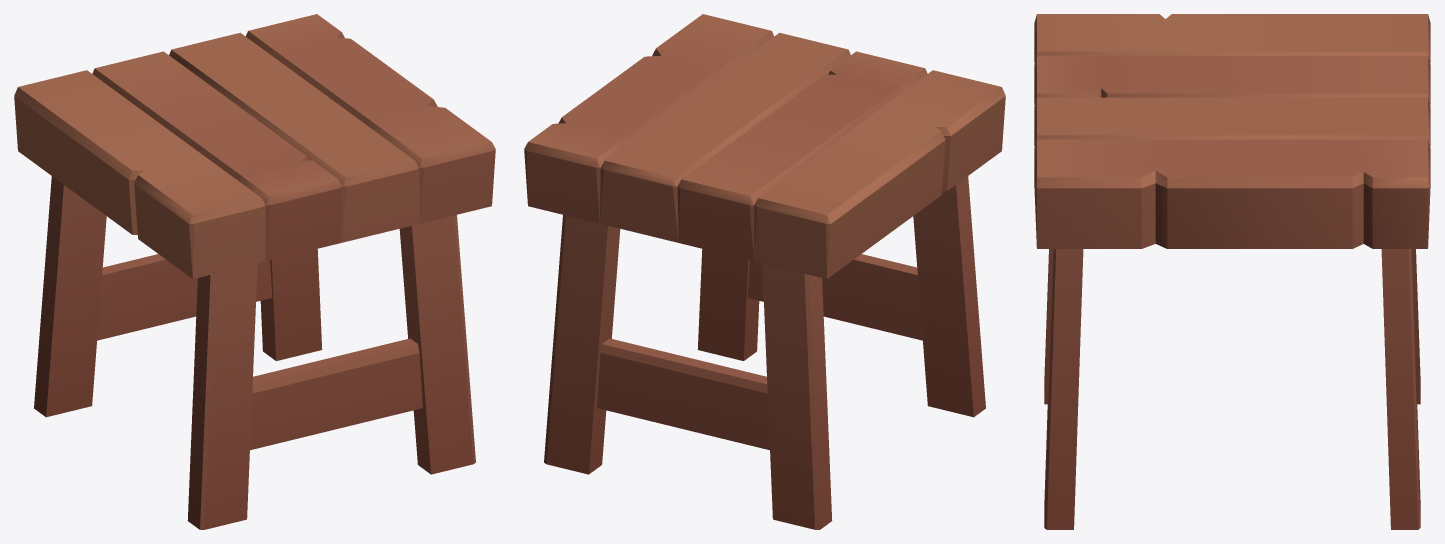
The model's file is table_long.glb.
3 renders of one model, left to right at view 1: azimuth 30°, elevation 25°; view 2: azimuth 150°, elevation 25°; view 3: azimuth 270°, elevation 25°, orthographic. The views are drawn at different scales.
Visible parts, largest first — view 1: table_long; view 2: table_long; view 3: table_long.
Part boxes in pixels (left/top/right/bottom): table_long: left=14, top=14, right=495, bottom=529; table_long: left=524, top=14, right=1005, bottom=529; table_long: left=1034, top=14, right=1430, bottom=529.
Size of the model in its own units: 1 by 1 by 1.
1 material, 1 textured.
